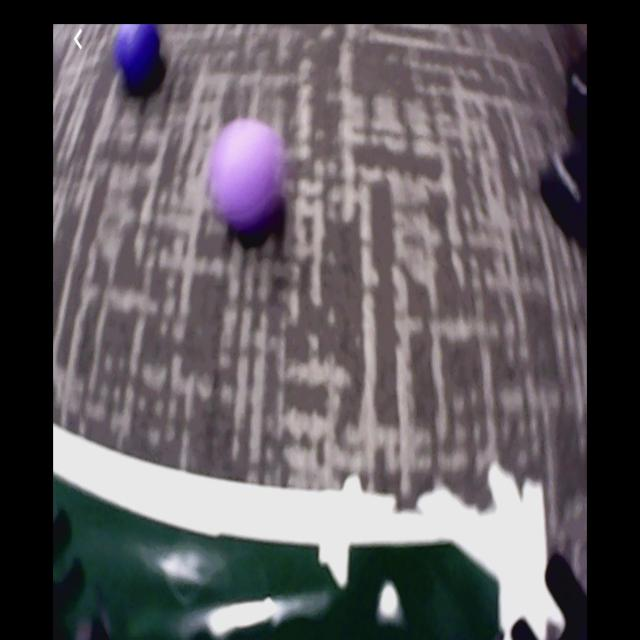ball: (211, 120, 280, 229), (114, 25, 161, 87)
